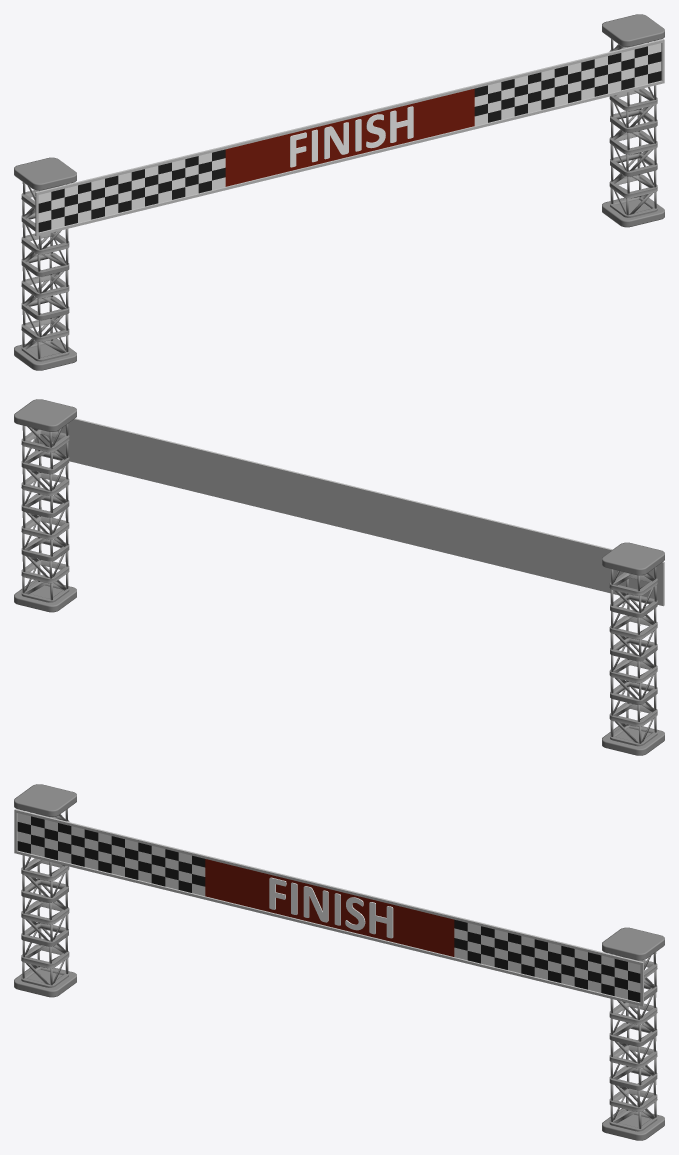
The model's file is finish_line.glb.
The picture shows the model from 3 angles, top to bottom: view 1: azimuth 30°, elevation 25°; view 2: azimuth 150°, elevation 25°; view 3: azimuth 330°, elevation 25°; orthographic projection.
Visible parts, largest first — view 1: Board.001, pole.001, matel tab, Finish, matel tab bottom; view 2: Board.001, pole.001, matel tab, matel tab bottom; view 3: Board.001, pole.001, matel tab, Finish, matel tab bottom.
Part boxes in pixels (x1=…): Board.001: x1=35, y1=39, x2=664, y2=236; pole.001: x1=21, y1=39, x2=657, y2=361; matel tab: x1=14, y1=14, x2=664, y2=190; Finish: x1=290, y1=106, x2=413, y2=167; matel tab bottom: x1=14, y1=195, x2=664, y2=370; Board.001: x1=35, y1=418, x2=664, y2=606; pole.001: x1=21, y1=424, x2=657, y2=746; matel tab: x1=14, y1=399, x2=664, y2=575; matel tab bottom: x1=14, y1=580, x2=664, y2=755; Board.001: x1=14, y1=809, x2=643, y2=1006; pole.001: x1=21, y1=809, x2=657, y2=1131; matel tab: x1=14, y1=784, x2=664, y2=960; Finish: x1=269, y1=877, x2=393, y2=938; matel tab bottom: x1=14, y1=965, x2=664, y2=1140.
Bounding box in the file's own units: 15.16 × 4.28 × 1.05.
3 materials, 1 textured.
